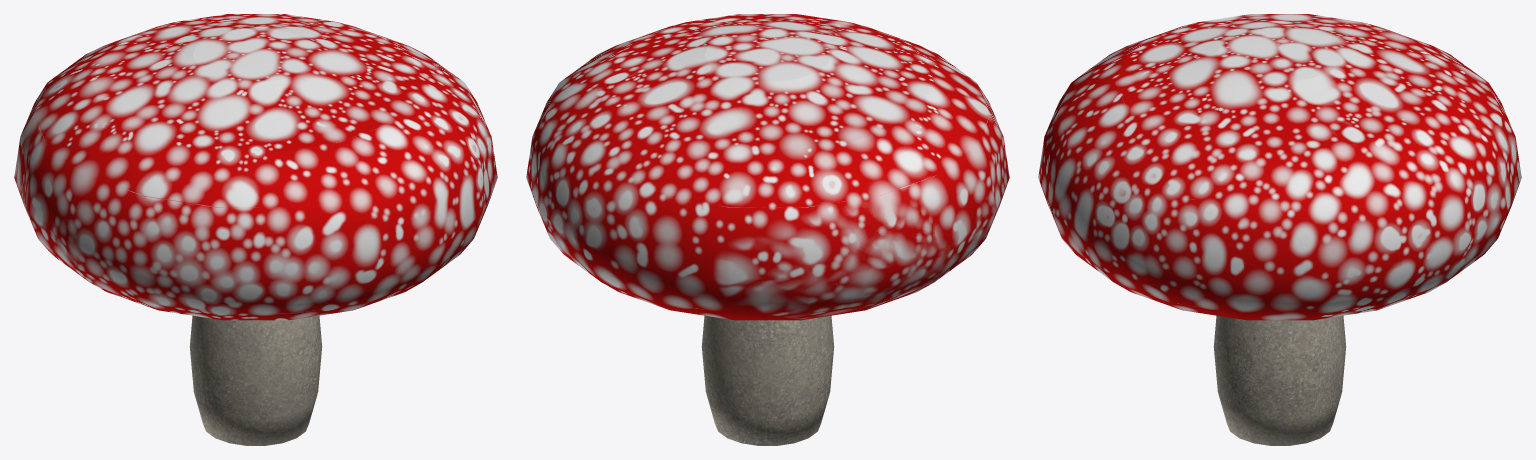
Rendered from mushroom01.fbx.
3 views of the same model, side by side, from view 1: azimuth 30°, elevation 25°; view 2: azimuth 150°, elevation 25°; view 3: azimuth 270°, elevation 25° (orthographic).
Visible parts, largest first — view 1: Cylinder; view 2: Cylinder; view 3: Cylinder.
Boxes of the visible parts, left/top/right/bottom form: Cylinder: left=14, top=14, right=497, bottom=445; Cylinder: left=526, top=14, right=1009, bottom=445; Cylinder: left=1038, top=14, right=1521, bottom=445.
Size of the model in its own units: 0.248 by 0.2153 by 0.2519.
1 material, 1 textured.
